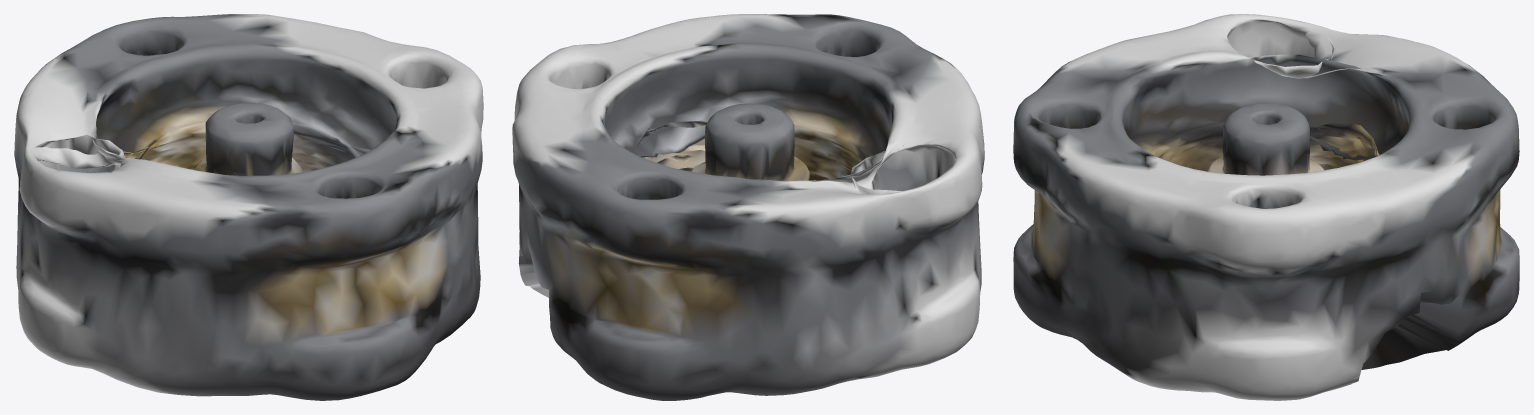
Rendered from diaphragm_defect.glb.
The picture shows the model from 3 angles, left to right: view 1: azimuth 30°, elevation 25°; view 2: azimuth 150°, elevation 25°; view 3: azimuth 270°, elevation 25°; orthographic projection.
Visible parts, largest first — view 1: tmpq3kslpm7.ply; view 2: tmpq3kslpm7.ply; view 3: tmpq3kslpm7.ply.
Part boxes in pixels (x1,y1,x2,y2): tmpq3kslpm7.ply: (14,14,483,400); tmpq3kslpm7.ply: (512,14,984,400); tmpq3kslpm7.ply: (1013,14,1519,400).
Bounding box in the file's own units: 0.9964 × 0.5111 × 1.
